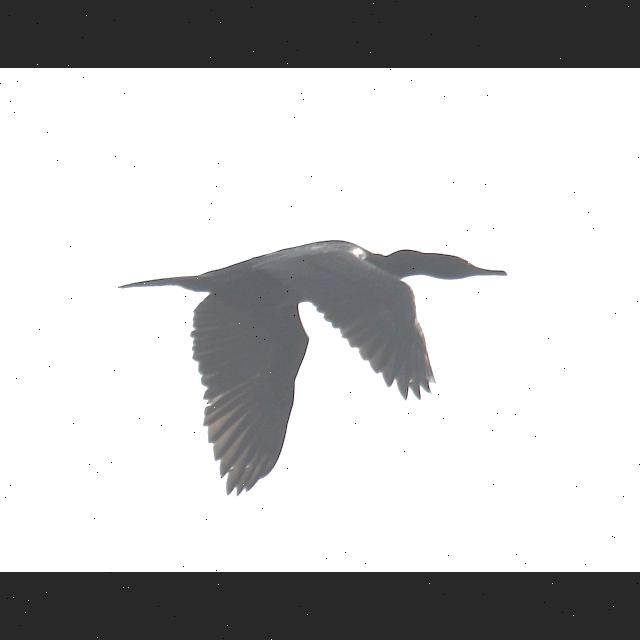cormorant: (115, 236, 507, 494)
